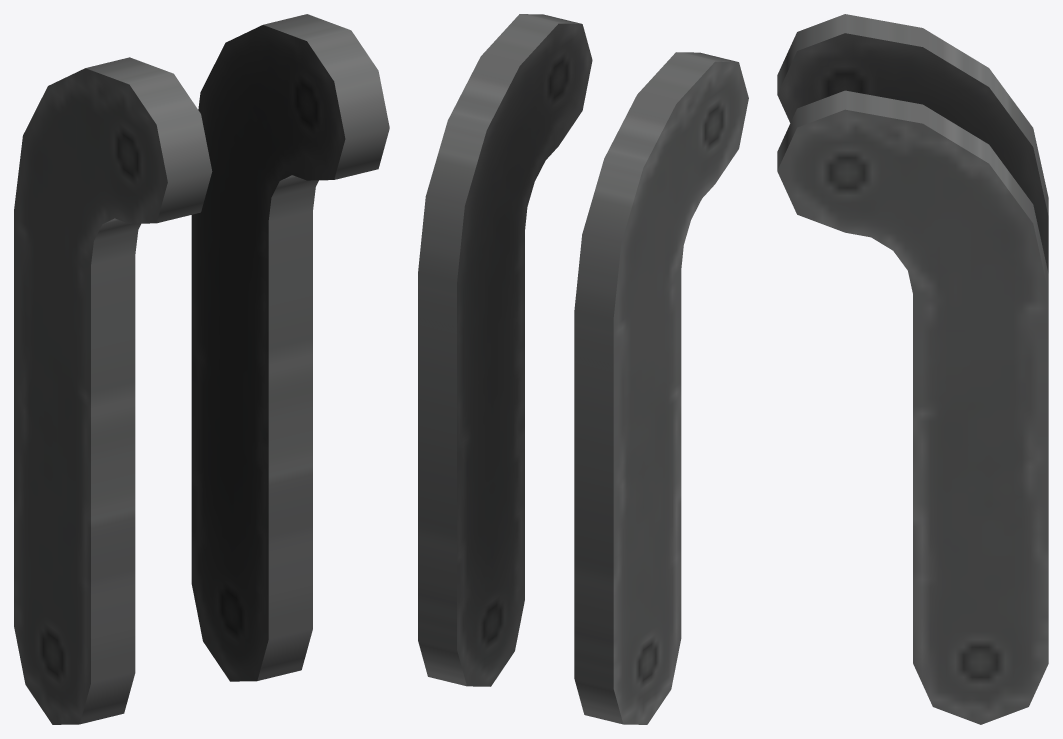
The model's file is vela_landing_leg_srf_1_piston_upper_down.obj.
3 renders of one model, left to right at view 1: azimuth 30°, elevation 25°; view 2: azimuth 150°, elevation 25°; view 3: azimuth 270°, elevation 25°, orthographic. The views are drawn at different scales.
Parts seen in each view (by area): view 1: piston_upper_down; view 2: piston_upper_down; view 3: piston_upper_down.
Boxes of the visible parts, x1,y1,x2,y2 form: piston_upper_down: (14, 14, 389, 724); piston_upper_down: (418, 14, 748, 724); piston_upper_down: (777, 14, 1048, 724).
Size of the model in its own units: 0.125 by 0.375 by 0.15.
